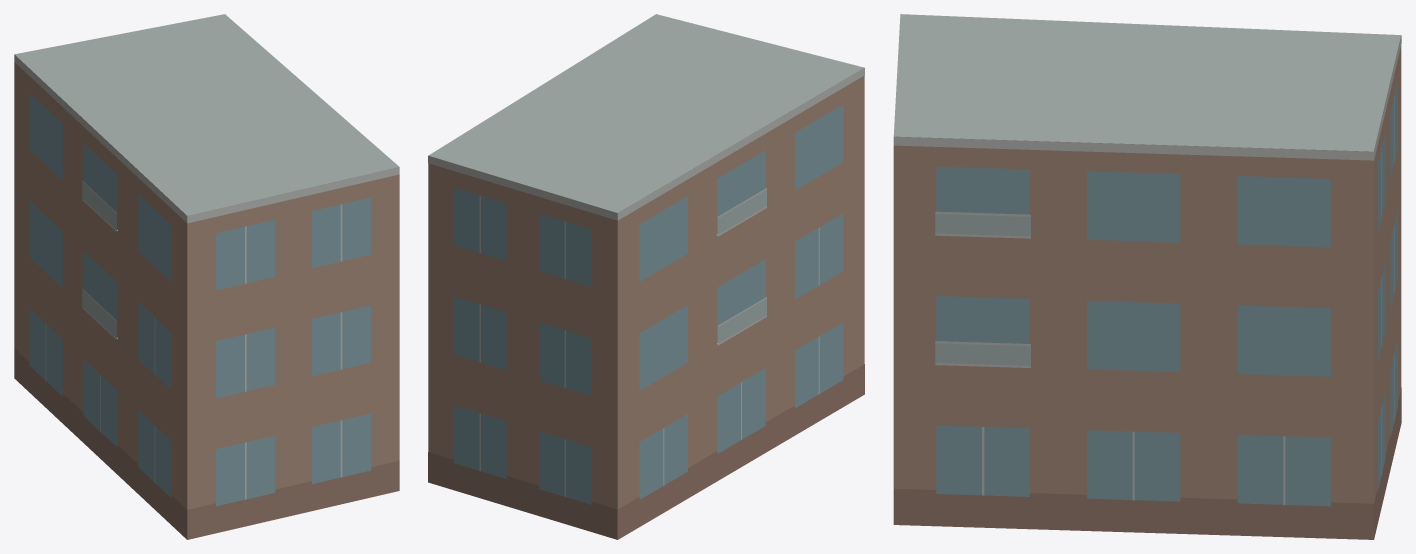
Rendered from survey-upis-33039480.glb.
The picture shows the model from 3 angles, left to right: view 1: azimuth 30°, elevation 25°; view 2: azimuth 150°, elevation 25°; view 3: azimuth 270°, elevation 25°; orthographic projection. The views are drawn at different scales.
Visible parts, largest first — view 1: survey-upis-33039480.tmp; view 2: survey-upis-33039480.tmp; view 3: survey-upis-33039480.tmp.
Boxes of the visible parts, x1,y1,x2,y2 form: survey-upis-33039480.tmp: (14,14,399,539); survey-upis-33039480.tmp: (428,14,864,539); survey-upis-33039480.tmp: (893,14,1401,539).
Size of the model in its own units: 8.03 by 10.55 by 12.51.
